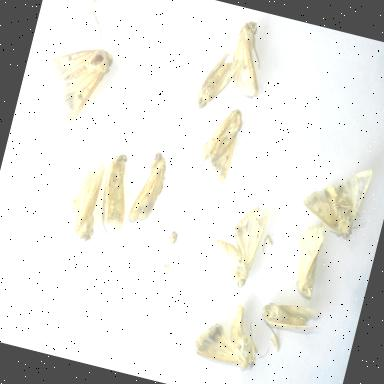abw: (292, 146, 384, 250), (29, 32, 117, 136), (186, 290, 273, 376), (202, 194, 274, 294), (56, 154, 116, 248), (188, 98, 250, 188), (217, 13, 279, 102), (188, 37, 248, 122), (278, 212, 332, 303), (123, 143, 177, 232), (89, 148, 143, 237), (256, 290, 330, 344)
